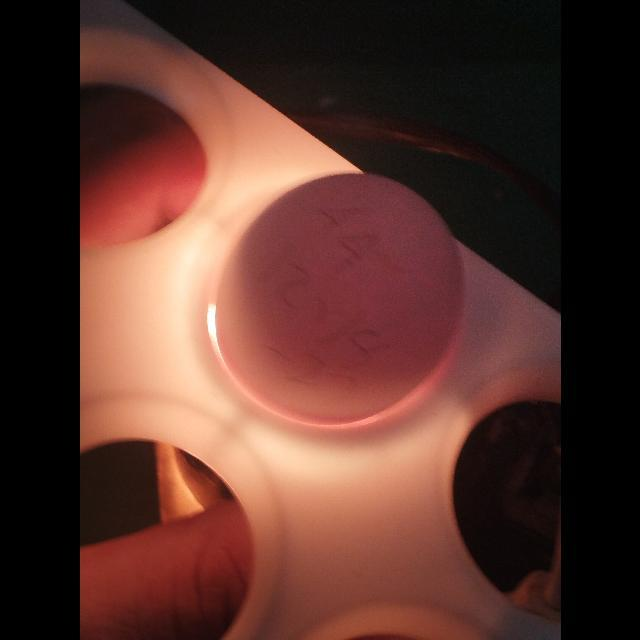Fertile: (210, 172, 458, 406)
